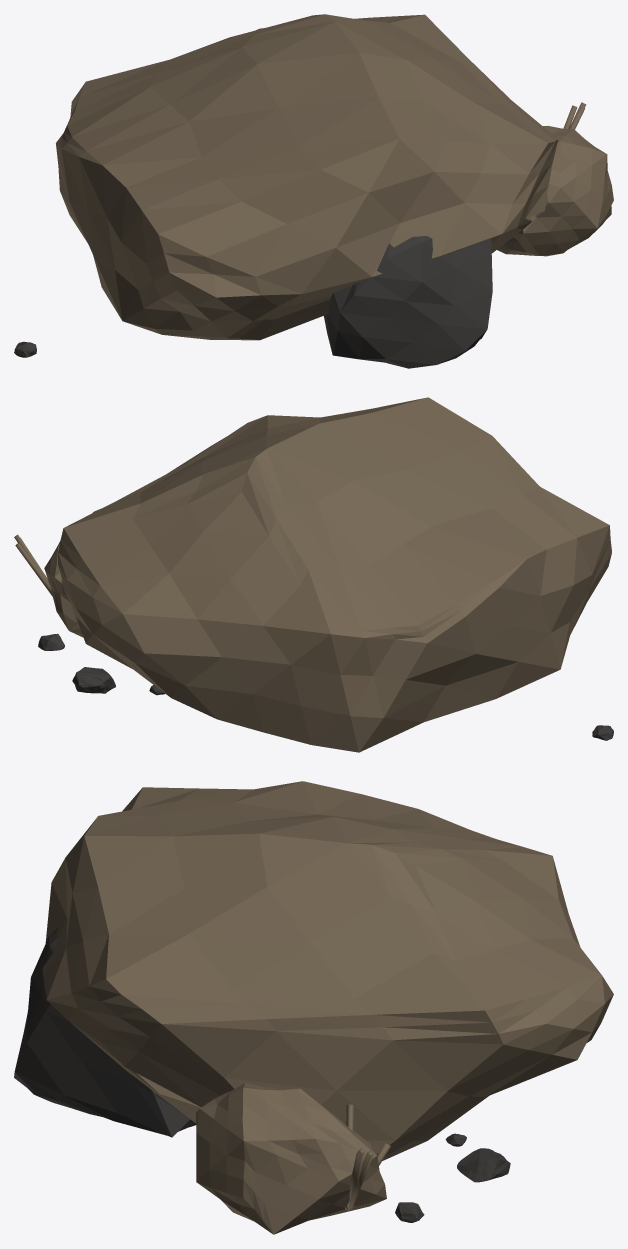
File: cover_rock_5.glb
The picture shows the model from 3 angles, top to bottom: view 1: azimuth 30°, elevation 25°; view 2: azimuth 150°, elevation 25°; view 3: azimuth 270°, elevation 25°; orthographic projection. The views are drawn at different scales.
Parts seen in each view (by area): view 1: rock_0, rock_2, rock_1; view 2: rock_0, rock_1, grit_3; view 3: rock_0, rock_1, rock_2, grit_3.
Part boxes in pixels (x1,y1,x2,y2): rock_0: [56, 14, 558, 340]; rock_2: [324, 236, 492, 368]; rock_1: [497, 126, 613, 256]; rock_0: [58, 397, 611, 752]; rock_1: [44, 509, 100, 637]; grit_3: [72, 667, 115, 693]; rock_0: [42, 781, 613, 1160]; rock_1: [195, 1083, 386, 1234]; rock_2: [14, 927, 195, 1137]; grit_3: [457, 1148, 510, 1182].
Bounding box in the file's own units: 2.52 × 0.9655 × 1.94.
